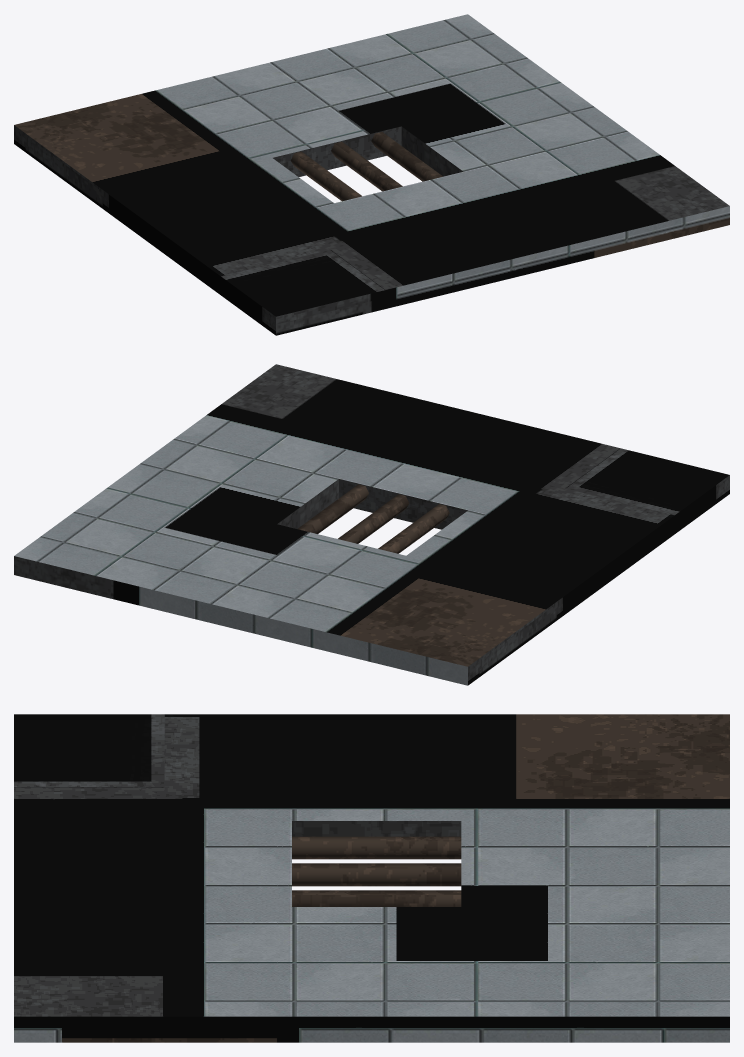
The model's file is Ceiling.FBX.
3 views of the same model, one above another, from view 1: azimuth 30°, elevation 25°; view 2: azimuth 150°, elevation 25°; view 3: azimuth 270°, elevation 25° (orthographic). The views are drawn at different scales.
Visible parts, largest first — view 1: Ceiling; view 2: Ceiling; view 3: Ceiling.
Part boxes in pixels (bbox=[...]): Ceiling: bbox=[14, 14, 729, 335]; Ceiling: bbox=[14, 364, 729, 685]; Ceiling: bbox=[14, 714, 729, 1042].
Size of the model in its own units: 50 by 2.72 by 50.
Materials: 1 (1 with a texture image).
